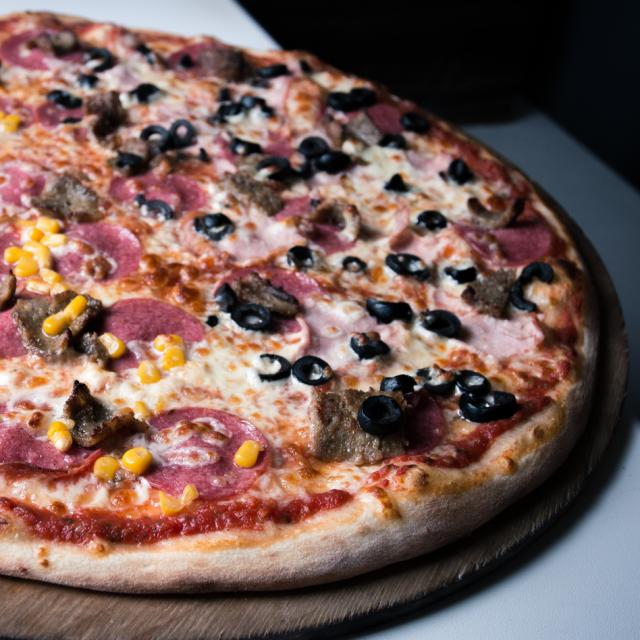black_olives: (510, 260, 556, 314), (358, 392, 405, 437), (458, 388, 518, 422), (365, 296, 413, 330), (414, 364, 457, 398), (293, 353, 334, 387), (384, 252, 430, 282), (193, 212, 236, 242), (232, 301, 272, 332), (350, 332, 392, 360), (420, 310, 464, 336), (256, 155, 292, 184), (256, 354, 293, 382), (132, 196, 175, 220), (453, 368, 492, 394), (137, 124, 169, 154), (445, 158, 478, 185), (214, 282, 242, 313), (314, 150, 351, 173), (400, 110, 434, 135), (286, 245, 316, 272), (114, 153, 147, 177), (227, 138, 266, 158), (380, 374, 418, 394), (325, 92, 359, 114), (443, 265, 478, 286), (126, 82, 159, 104), (85, 49, 116, 72), (170, 119, 195, 146), (415, 211, 449, 230), (48, 91, 80, 110), (379, 131, 409, 151), (382, 172, 409, 194), (298, 134, 327, 154), (341, 253, 368, 274), (352, 89, 381, 108), (176, 147, 208, 164), (257, 62, 289, 78), (258, 63, 290, 78), (219, 102, 243, 118), (206, 312, 222, 331), (78, 73, 99, 87), (242, 96, 266, 108), (216, 87, 233, 102), (207, 116, 228, 128), (298, 58, 312, 74), (181, 54, 195, 69), (135, 44, 151, 54), (261, 107, 274, 118)
pepperoni: (132, 407, 273, 500), (92, 297, 208, 373), (0, 398, 108, 471), (215, 268, 323, 333), (268, 195, 364, 253), (55, 223, 143, 282), (449, 219, 554, 266), (0, 25, 87, 75), (108, 173, 211, 212), (0, 290, 56, 357), (0, 225, 55, 293), (0, 152, 62, 212), (394, 393, 447, 452), (212, 128, 294, 164), (164, 41, 236, 79), (346, 102, 404, 136), (36, 101, 83, 127), (0, 94, 33, 129)
pizza: (0, 12, 592, 598)
